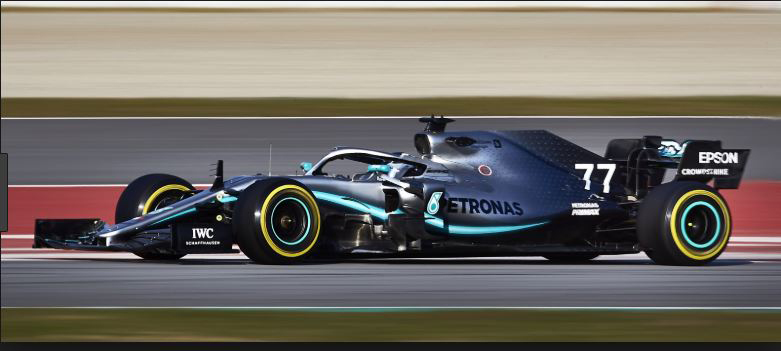F1 Car: (31, 112, 758, 268)
